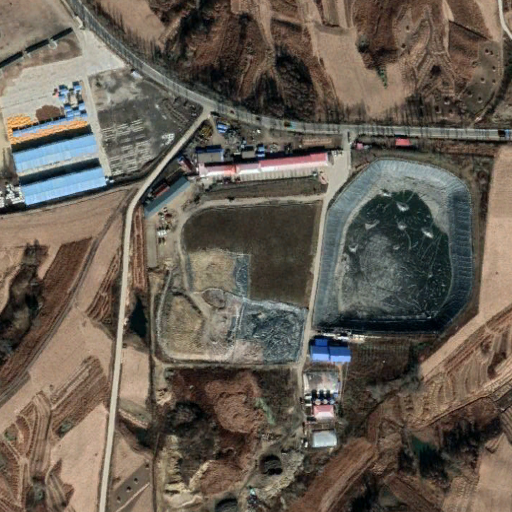lf: (155, 160, 323, 364)
